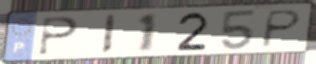1: (135, 12, 161, 54)
2: (176, 11, 210, 53)
5: (219, 8, 259, 51)
I: (99, 13, 119, 56)
P: (258, 8, 304, 49), (36, 16, 81, 57)
